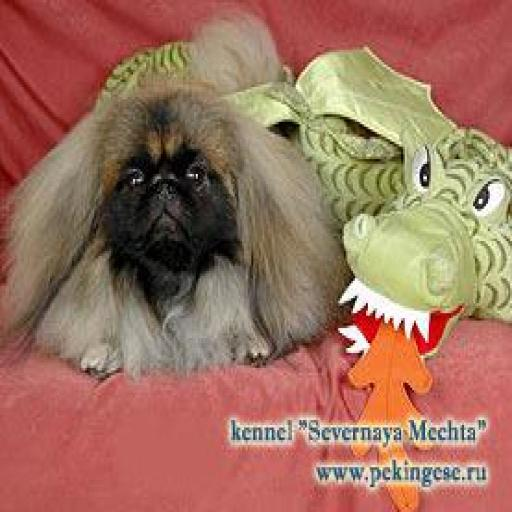dog_face: (20, 88, 312, 320)
